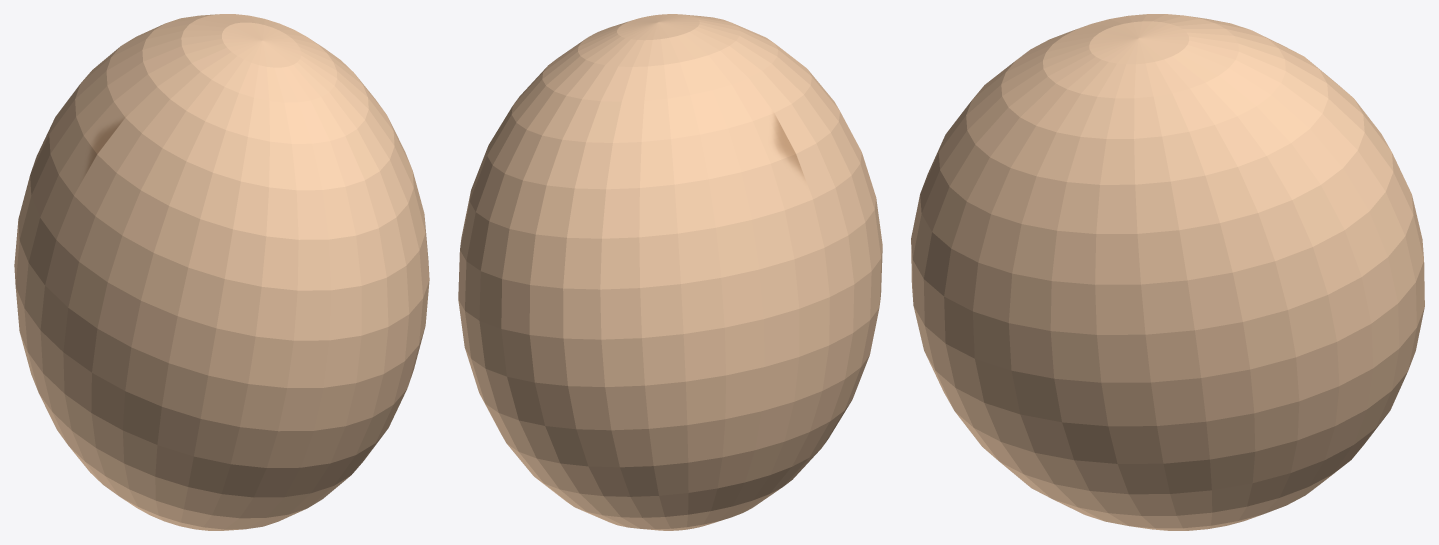
File: ManoIzq_Arbitro.obj
3 views of the same model, side by side, from view 1: azimuth 30°, elevation 25°; view 2: azimuth 150°, elevation 25°; view 3: azimuth 270°, elevation 25° (orthographic). The views are drawn at different scales.
Parts seen in each view (by area): view 1: ManoIzq_Arbitro; view 2: ManoIzq_Arbitro; view 3: ManoIzq_Arbitro.
Boxes of the visible parts, box(x1,y1,x2,y2) form: ManoIzq_Arbitro: box(14, 14, 429, 530); ManoIzq_Arbitro: box(458, 14, 882, 530); ManoIzq_Arbitro: box(911, 14, 1424, 530).
Bounding box in the file's own units: 0.7547 × 0.9977 × 0.9322.
1 material, 1 textured.
